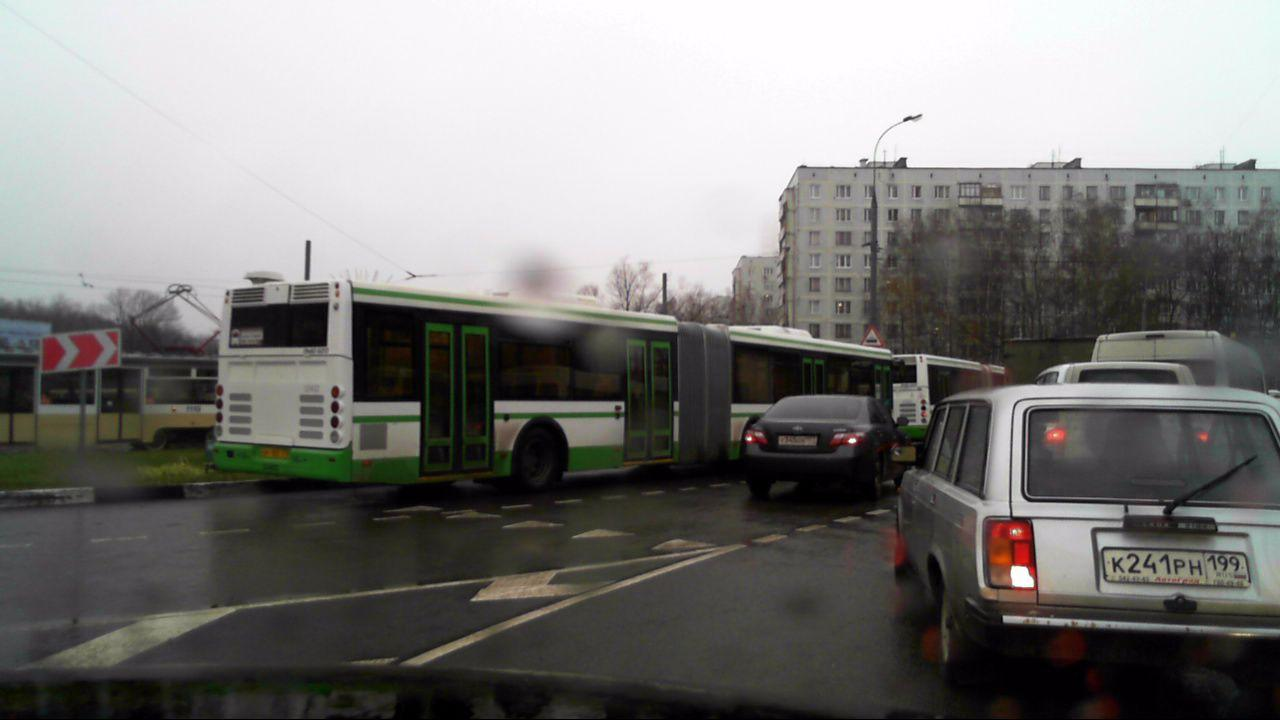road_sign: (40, 326, 123, 375), (859, 322, 890, 348)
